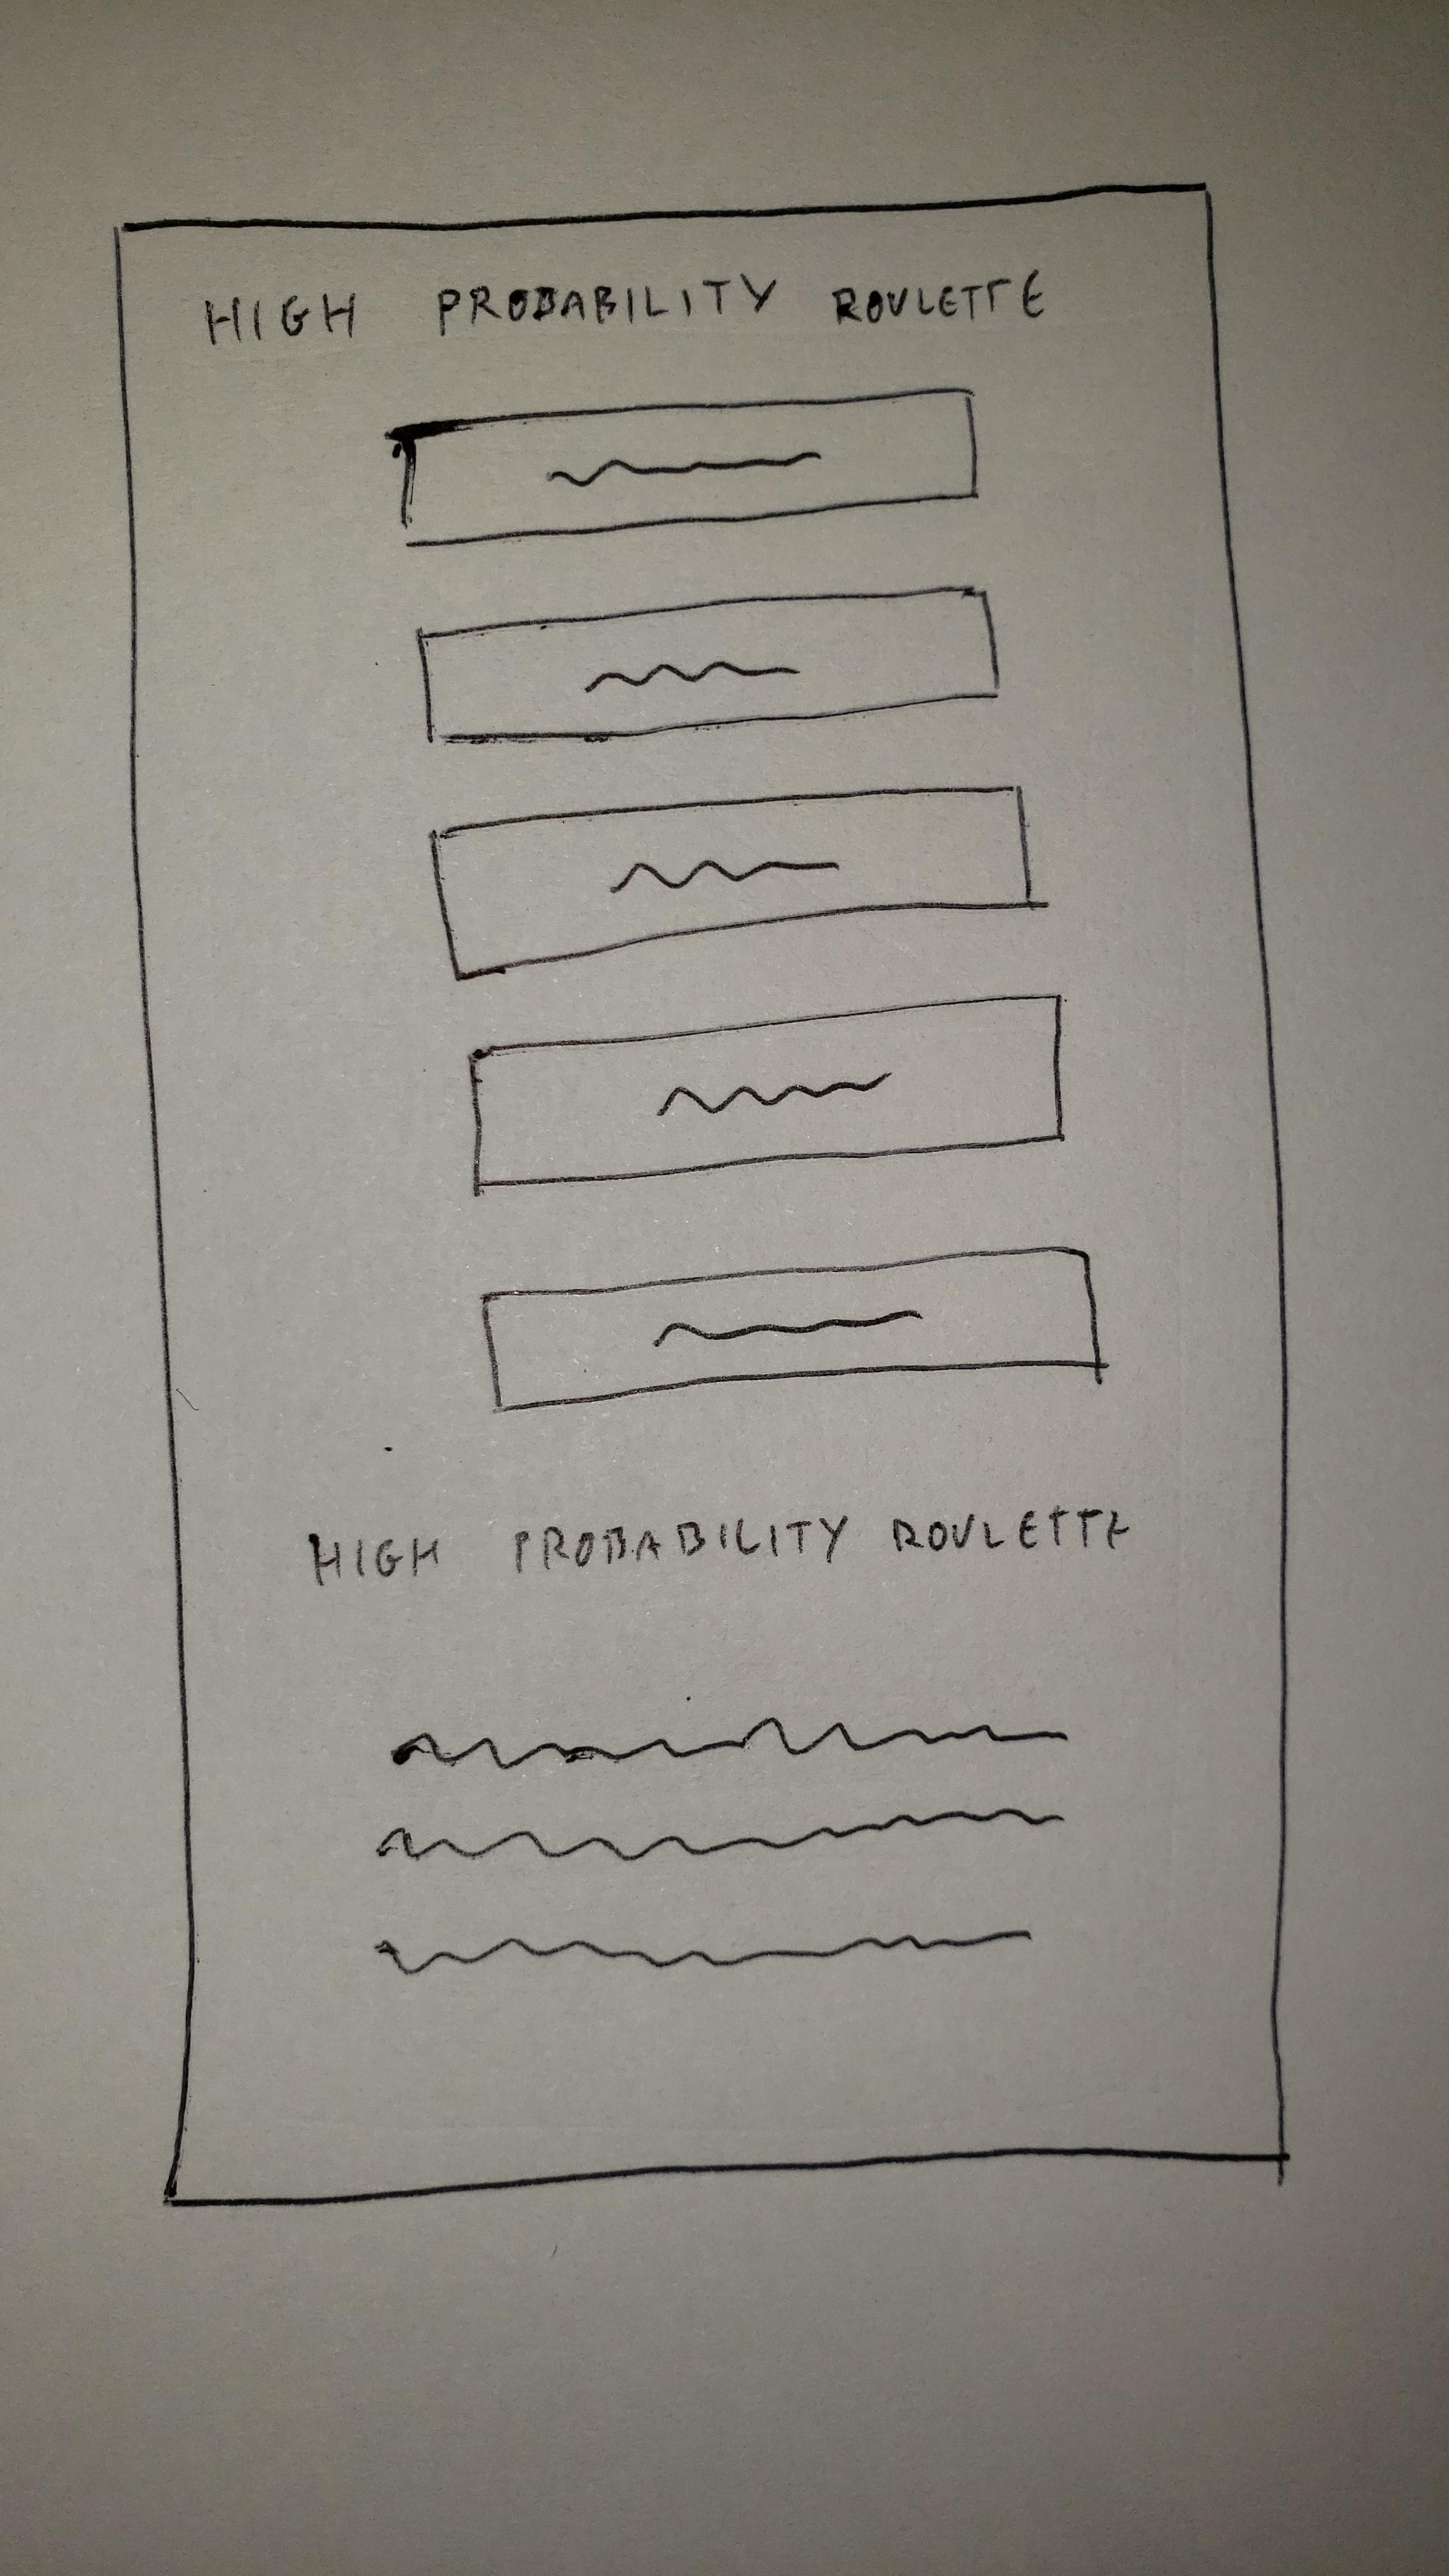Button: (467, 994, 1063, 1194), (432, 789, 1033, 982), (474, 1247, 1104, 1410), (398, 386, 982, 547), (416, 587, 998, 748)
Label: (366, 1706, 1083, 1985), (303, 1502, 1136, 1592), (200, 271, 1051, 347)
Screen: (111, 180, 1293, 2208)
